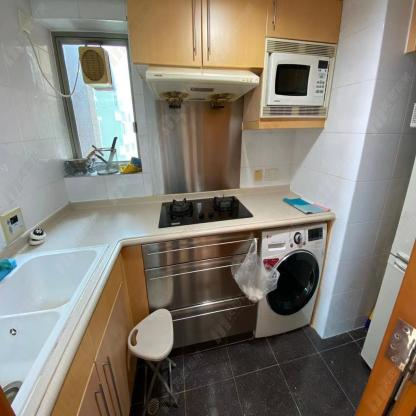Cupboard: (126, 0, 268, 68), (126, 0, 268, 68)
Exhaust Fan: (77, 46, 114, 87)
Exhaust Hood: (145, 64, 260, 109), (143, 64, 260, 107)
Microwave: (259, 36, 337, 120), (268, 52, 333, 105)
Sink: (1, 242, 109, 416), (2, 246, 108, 415)
Stove: (138, 188, 263, 237), (157, 195, 253, 227)
Washing Machine: (254, 221, 328, 339)
